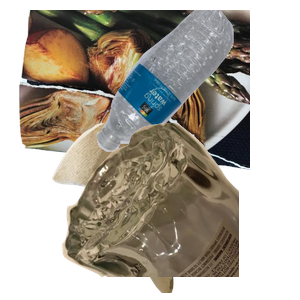glass: (60, 120, 300, 300)
paper: (16, 10, 256, 172)
plastic: (94, 10, 300, 154)
trash: (50, 120, 219, 300)
